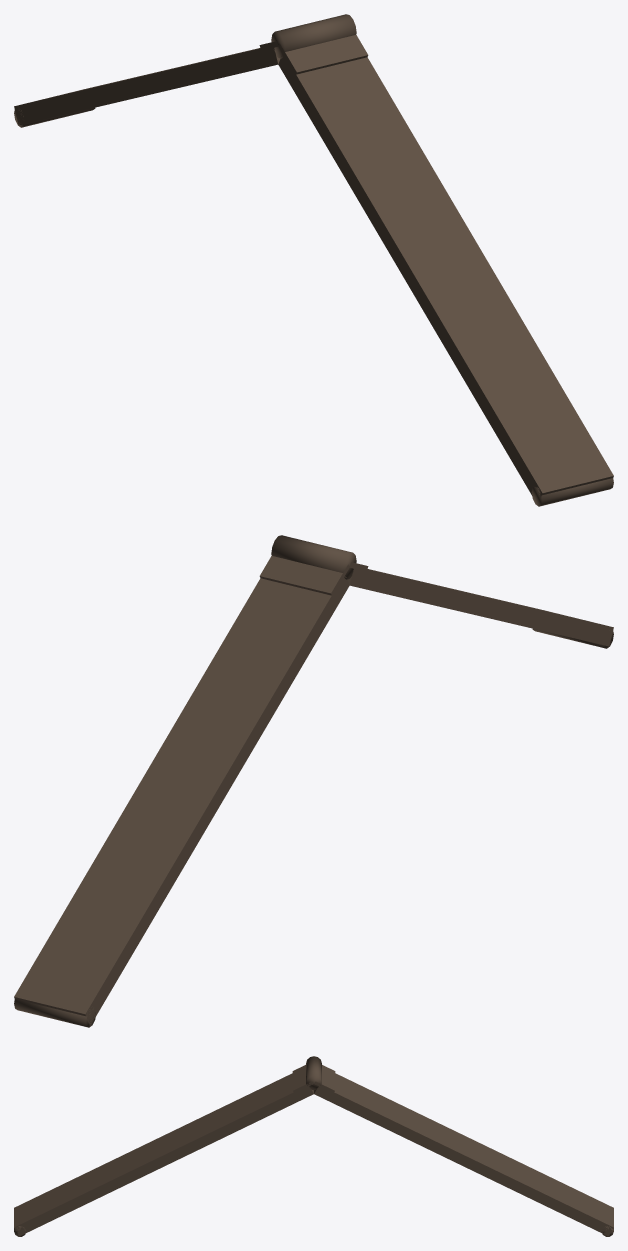
The model's file is kit_timber_thatch_w12.glb.
The picture shows the model from 3 angles, top to bottom: view 1: azimuth 30°, elevation 25°; view 2: azimuth 150°, elevation 25°; view 3: azimuth 270°, elevation 25°; orthographic projection. The views are drawn at different scales.
Parts seen in each view (by area): view 1: kit_timber_thatch_w12; view 2: kit_timber_thatch_w12; view 3: kit_timber_thatch_w12.
Boxes of the visible parts, bbox=[...] form: kit_timber_thatch_w12: bbox=[14, 14, 613, 506]; kit_timber_thatch_w12: bbox=[14, 535, 613, 1027]; kit_timber_thatch_w12: bbox=[14, 1056, 613, 1236].
Bounding box in the file's own units: 1 × 3.8 × 12.83.
